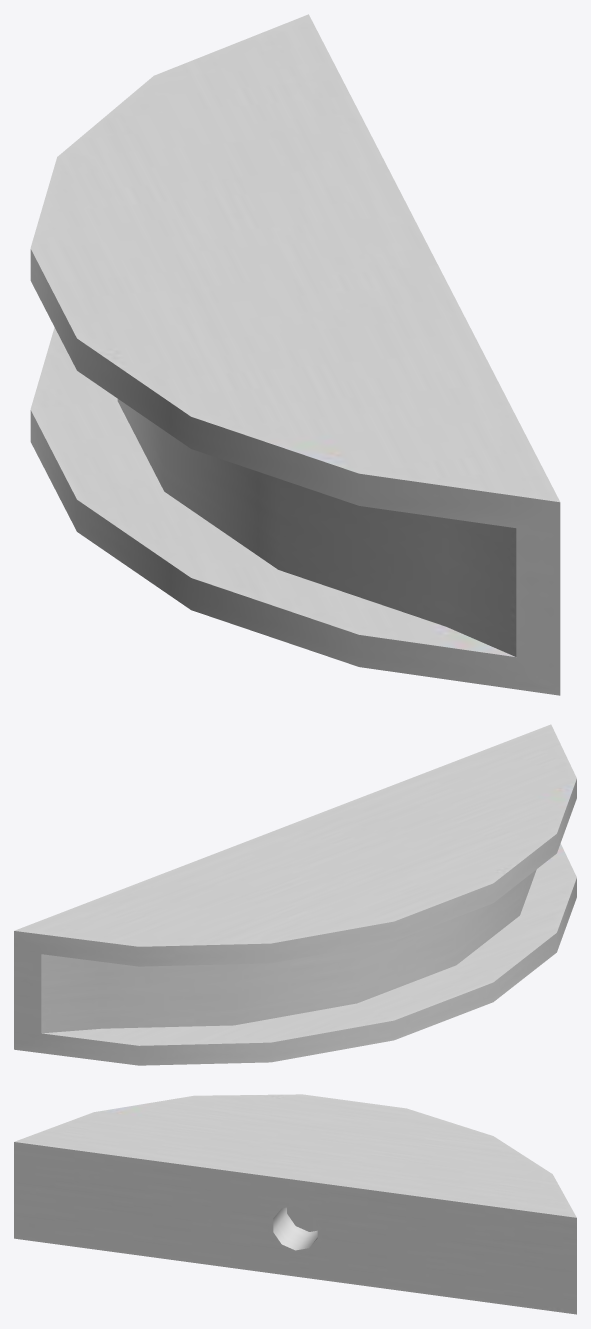
Rendered from tool_pipe_bender_crossbow_nozzle_09.glb.
The picture shows the model from 3 angles, top to bottom: view 1: azimuth 30°, elevation 25°; view 2: azimuth 150°, elevation 25°; view 3: azimuth 270°, elevation 25°; orthographic projection. The views are drawn at different scales.
Visible parts, largest first — view 1: tool_pipe_bender_crossbow_nozzle_09; view 2: tool_pipe_bender_crossbow_nozzle_09; view 3: tool_pipe_bender_crossbow_nozzle_09.
Part boxes in pixels (bbox=[...]): tool_pipe_bender_crossbow_nozzle_09: bbox=[30, 14, 560, 695]; tool_pipe_bender_crossbow_nozzle_09: bbox=[14, 724, 576, 1065]; tool_pipe_bender_crossbow_nozzle_09: bbox=[14, 1094, 576, 1314].
Bounding box in the file's own units: 0.0992 × 0.0362 × 0.1912.
1 material, 1 textured.
